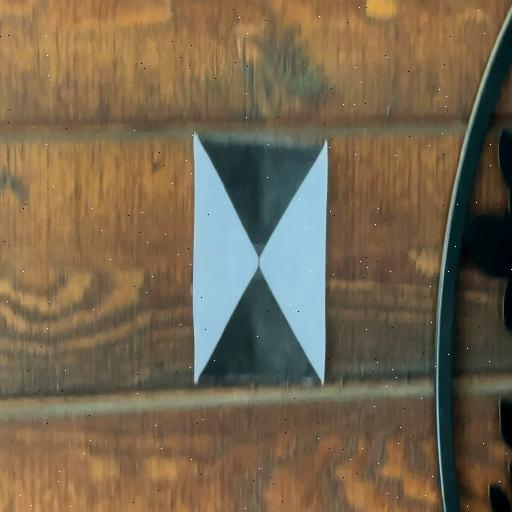target: (193, 131, 324, 380)
